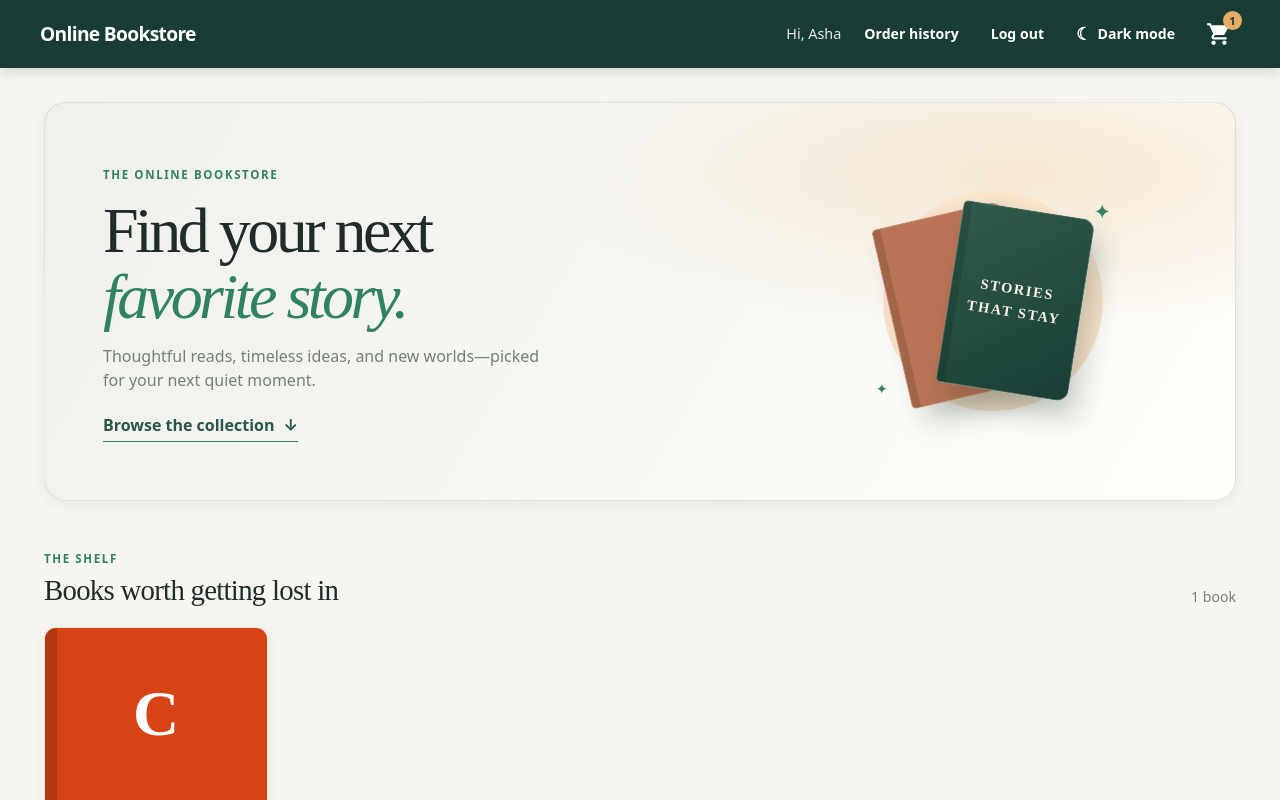
it: App (logged in) › completes checkout
Click the button named "Open cart (1)".
click(1219, 34)  # box x1=1198 y1=13 x2=1240 y2=55
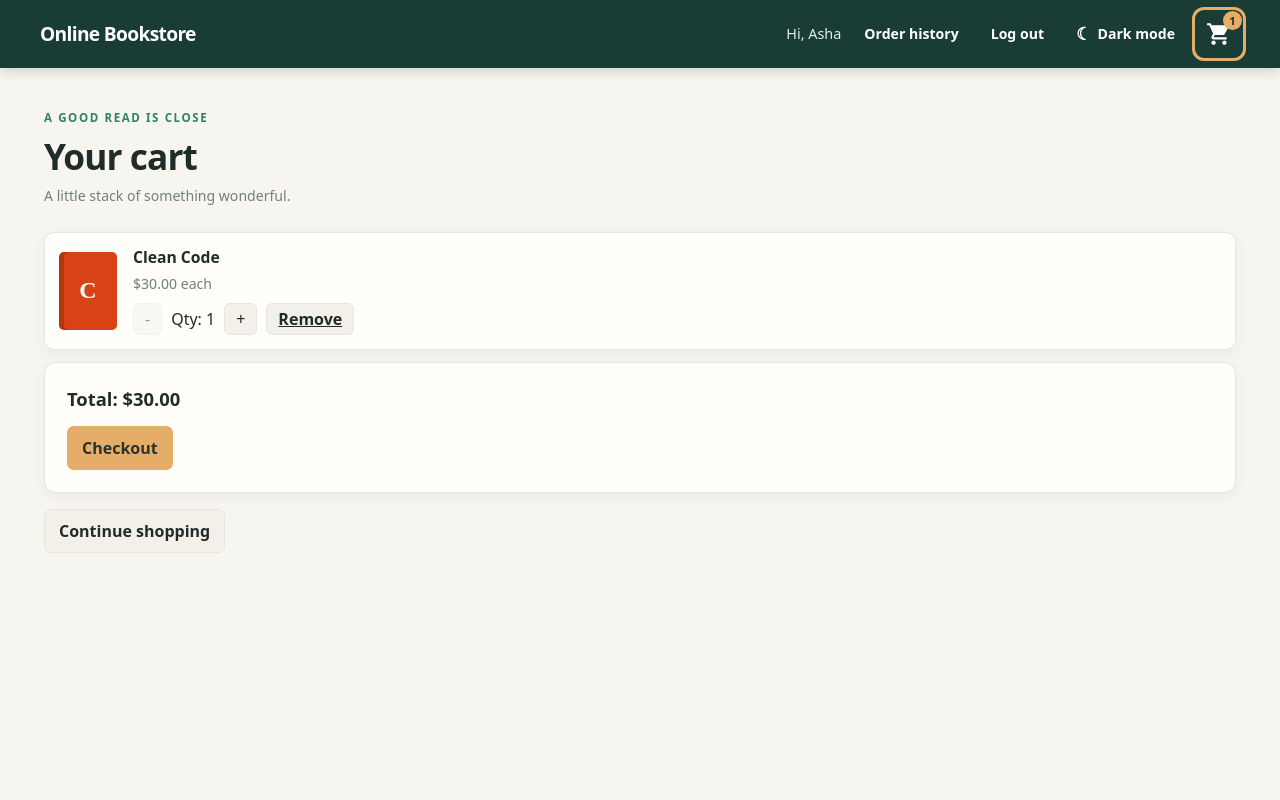
Click the button "Checkout".
click(120, 448)  # box x1=67 y1=426 x2=173 y2=470
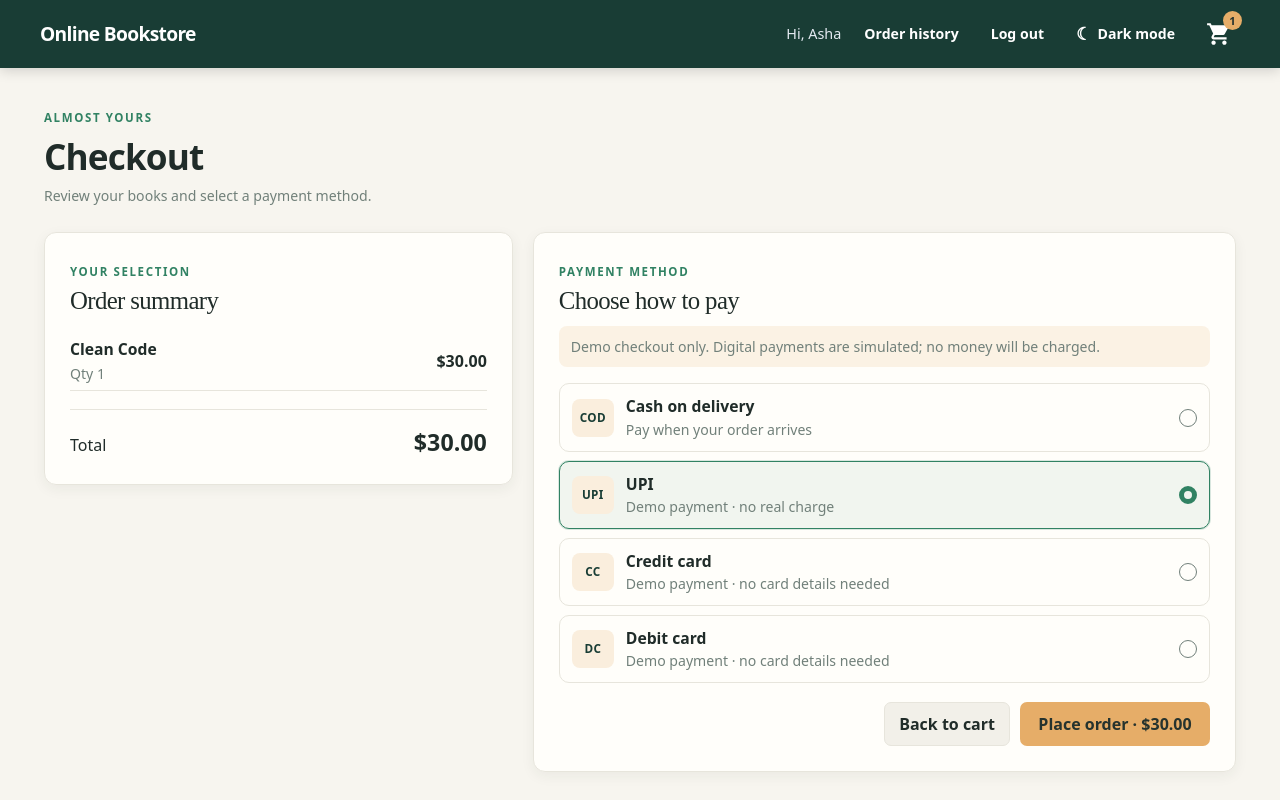
Result: the radio button labelled "UPI UPI Demo payment · no real charge" is checked at x1=559 y1=461 x2=1210 y2=529
Click the button "Place order · $30.00".
click(1115, 724)  # box x1=1020 y1=702 x2=1210 y2=746
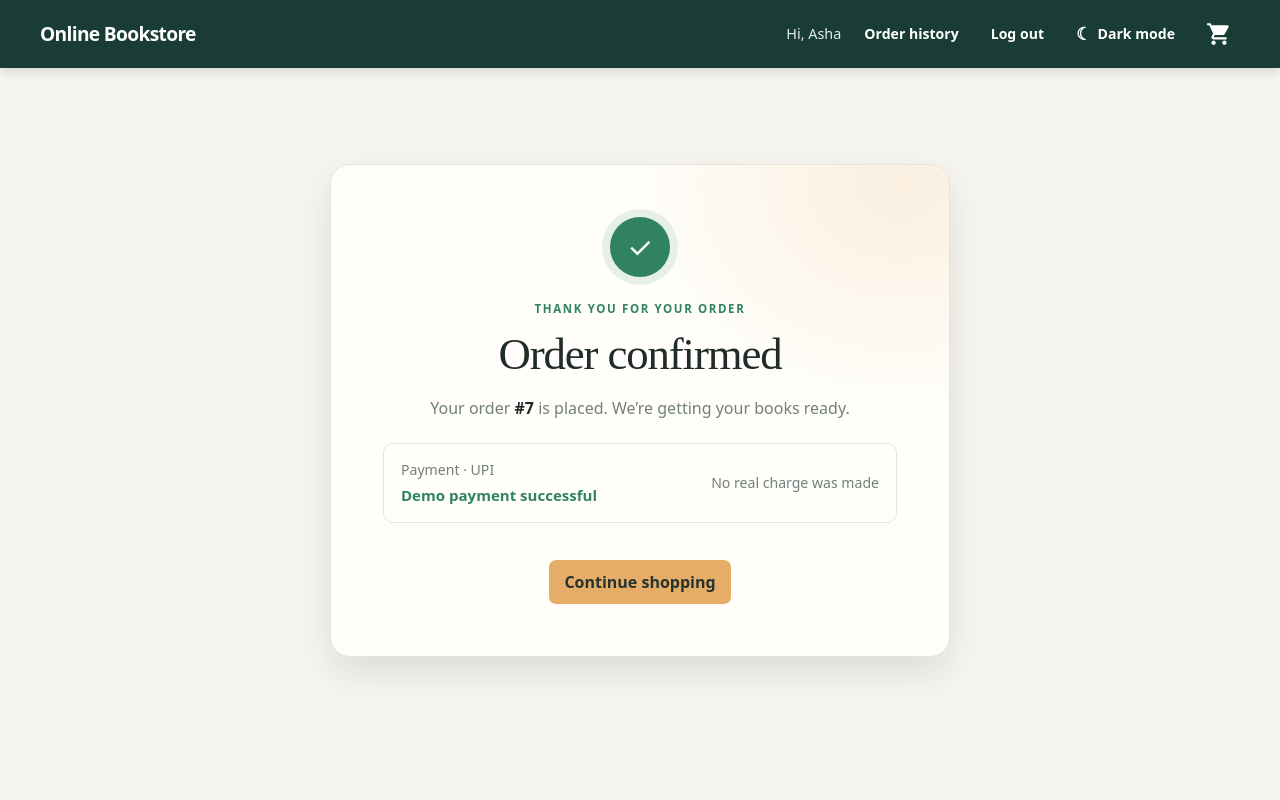
Result: the heading "Order confirmed" is shown at x1=498 y1=329 x2=782 y2=379
Result: the text "Your order #7 is placed. We’re getting your books ready." is shown at x1=430 y1=397 x2=850 y2=419
Result: the text "#7" is shown at x1=514 y1=397 x2=534 y2=419
